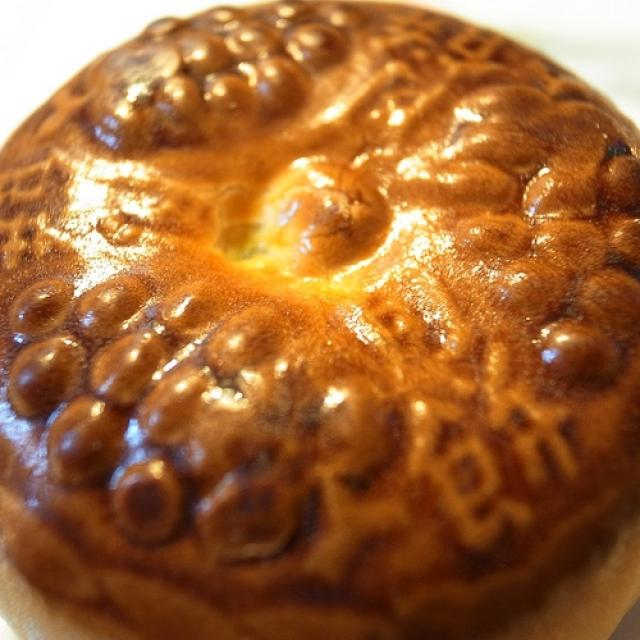蛋糕甜品: (15, 13, 638, 626)
